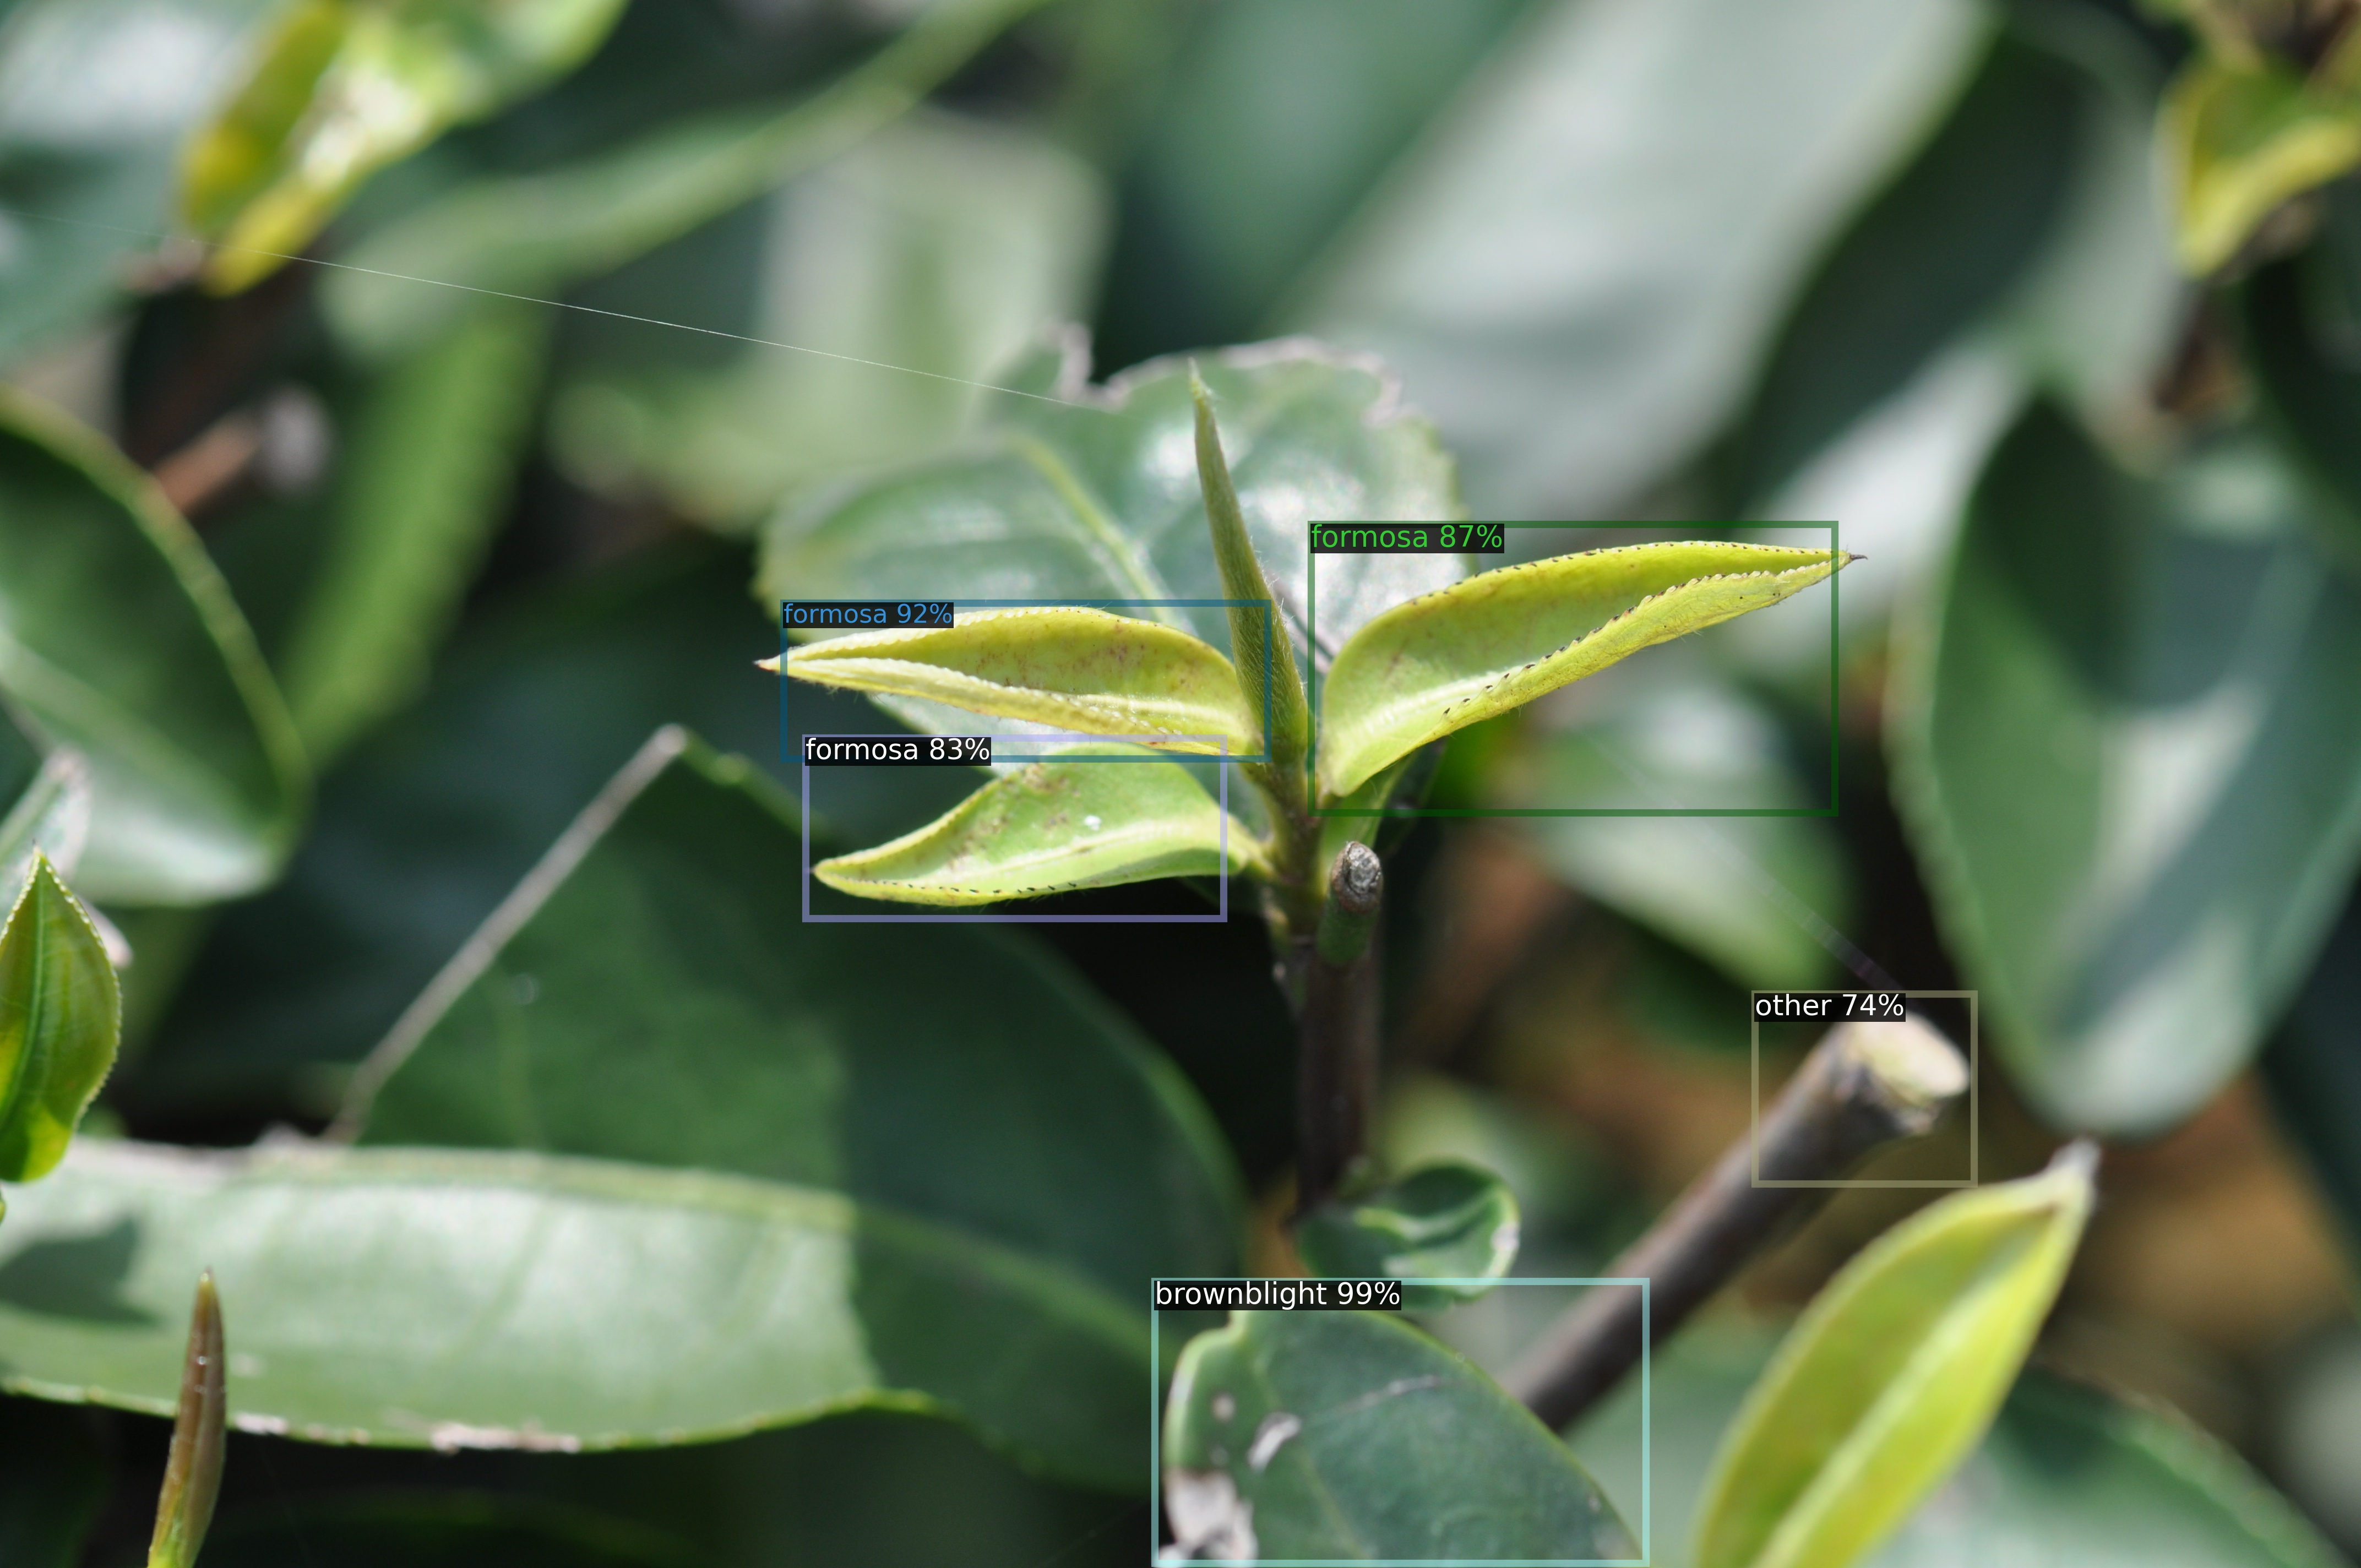brownblight: (1153, 1281, 1645, 1563)
formosa: (1311, 525, 1834, 812), (782, 602, 1267, 758), (805, 737, 1223, 917)
other: (1755, 994, 1974, 1183)
